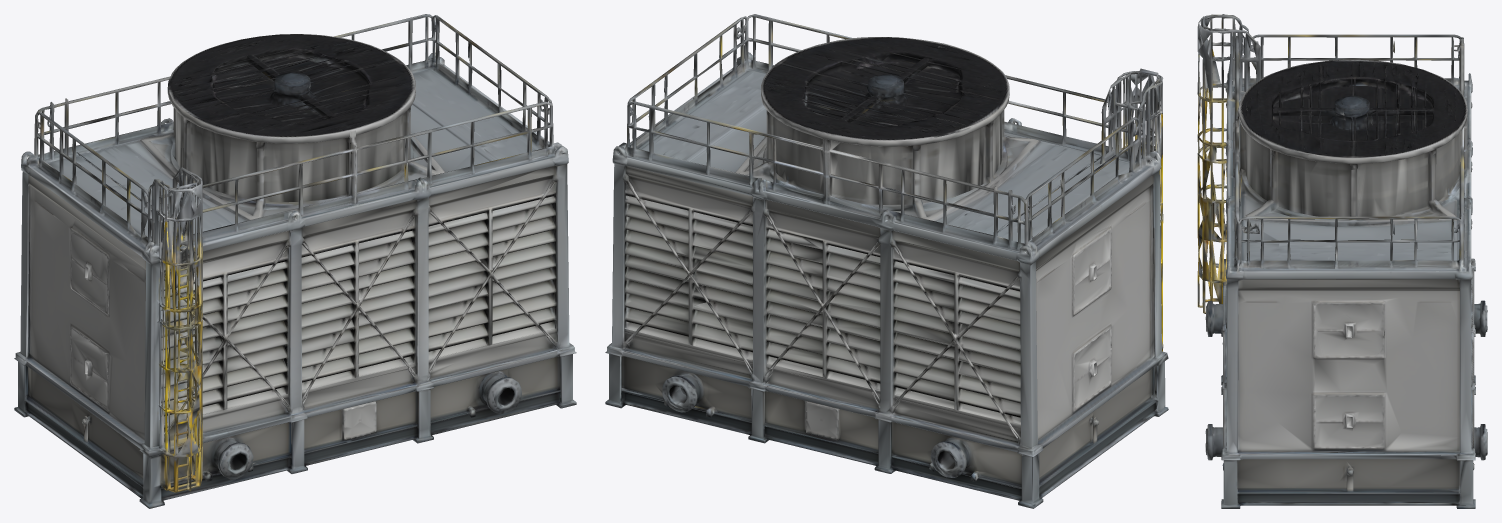
Rendered from cooling-tower-a.glb.
The picture shows the model from 3 angles, left to right: view 1: azimuth 30°, elevation 25°; view 2: azimuth 150°, elevation 25°; view 3: azimuth 270°, elevation 25°; orthographic projection. The views are drawn at different scales.
Visible parts, largest first — view 1: node_0; view 2: node_0; view 3: node_0.
Boxes of the visible parts, x1,y1,x2,y2 form: node_0: (14,14,576,508); node_0: (605,14,1168,508); node_0: (1197,14,1487,508).
Bounding box in the file's own units: 0.8805 × 0.6465 × 0.549.
Materials: 1 (1 with a texture image).
